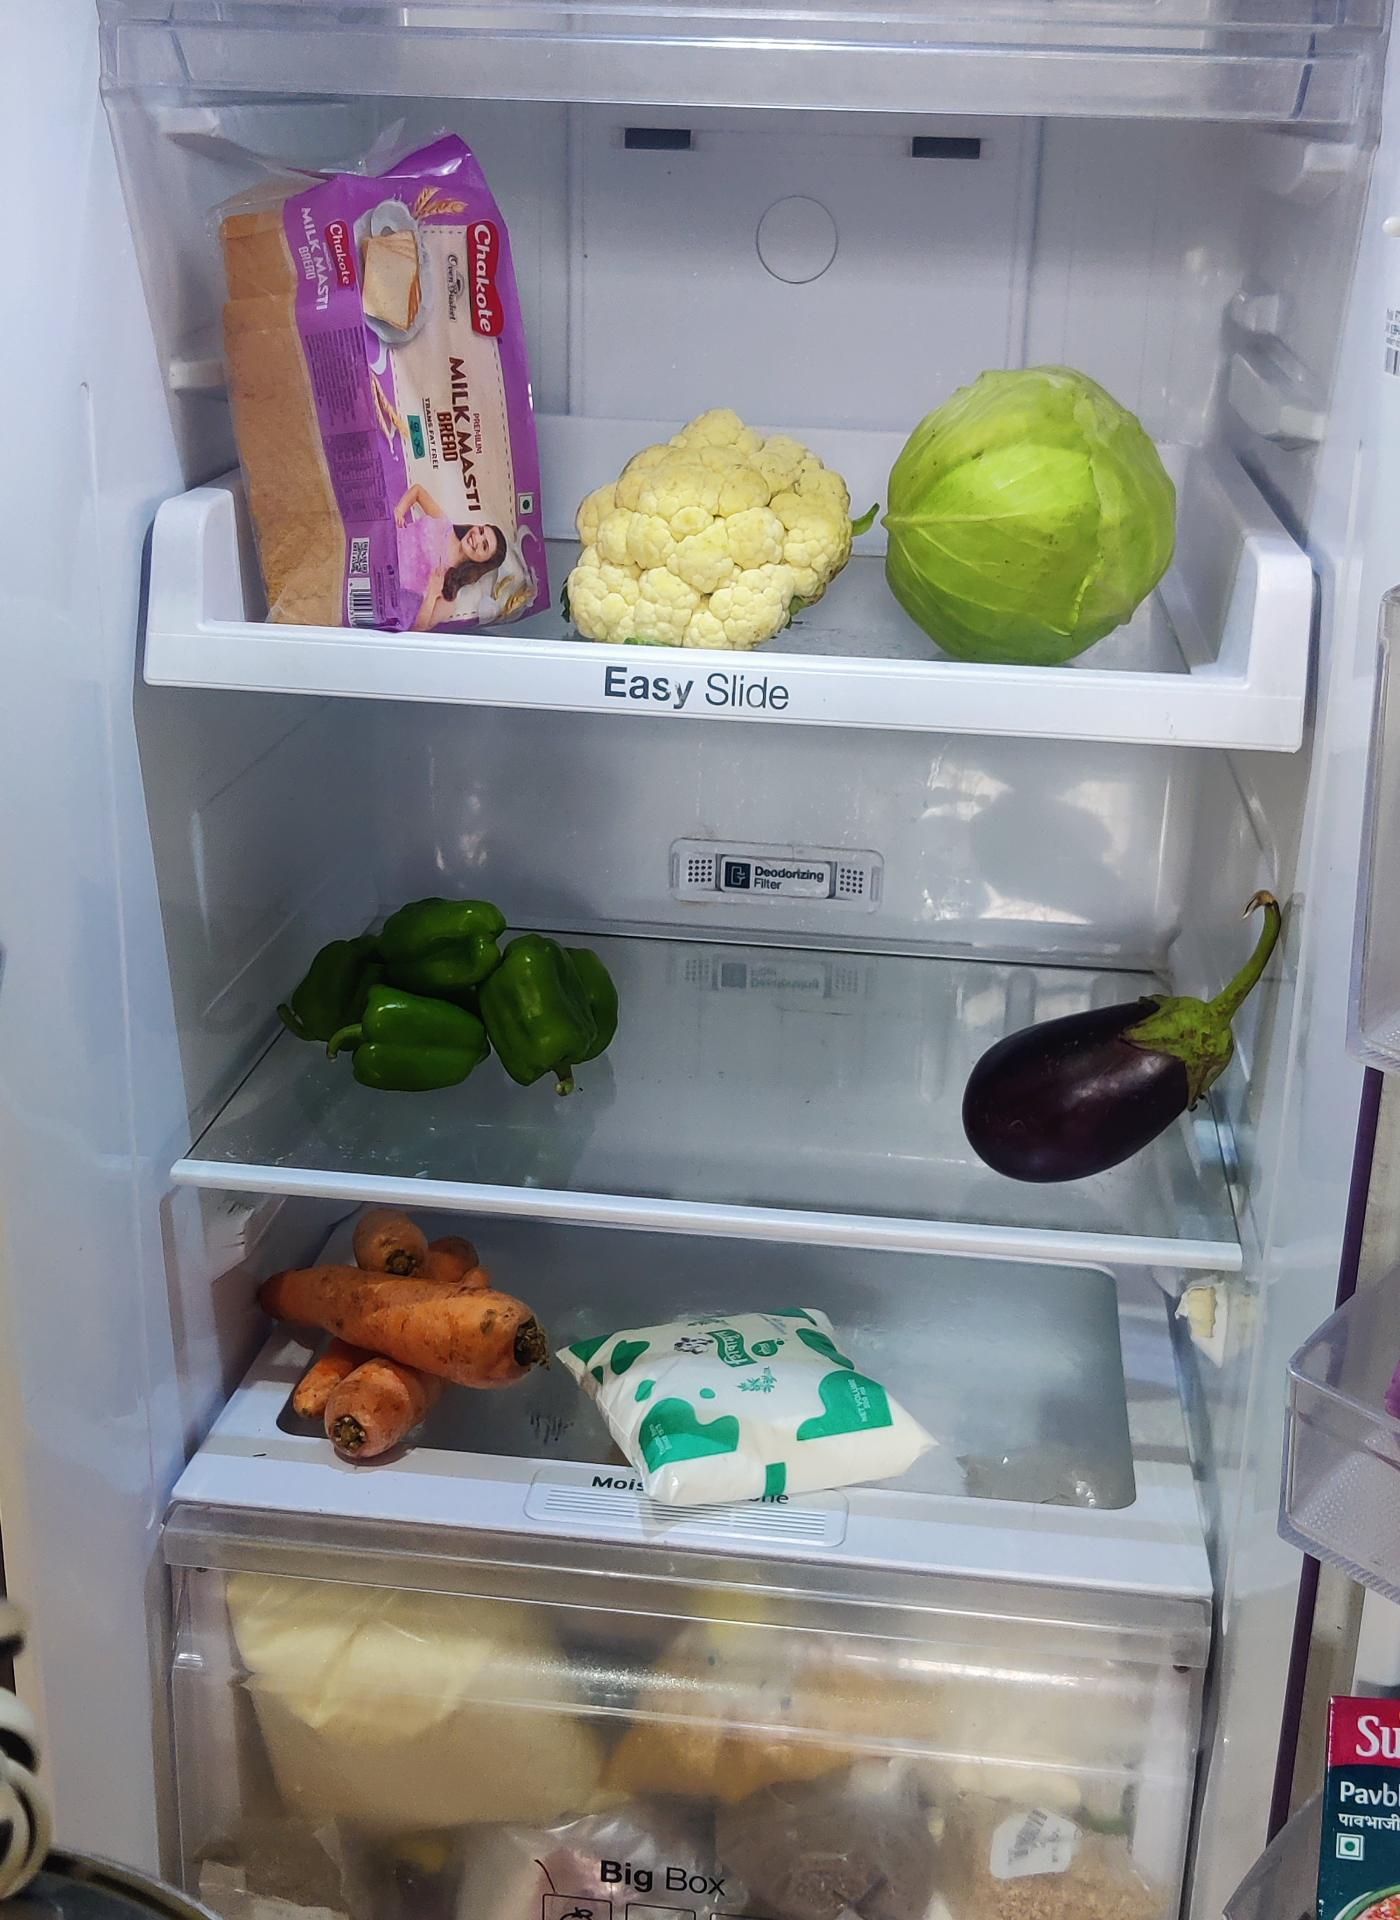bread: (213, 146, 553, 642)
brinjal: (948, 966, 1239, 1185)
cabbage: (889, 359, 1187, 659)
capsicum: (285, 899, 629, 1096)
carrots: (270, 1207, 556, 1458)
cauliflower: (576, 416, 866, 657)
milk: (584, 1313, 941, 1516)
